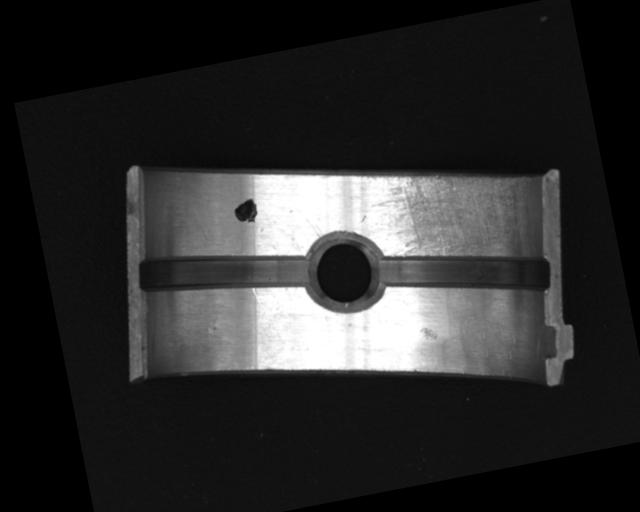blot: (232, 196, 259, 226)
bruise: (418, 324, 439, 344)
gap: (367, 225, 555, 324), (133, 228, 313, 318)
hole: (303, 229, 385, 316)
nick: (250, 283, 284, 348), (299, 205, 321, 242)
scratch: (362, 138, 547, 282)
